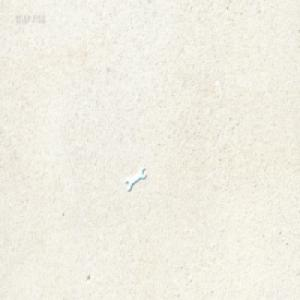Wrench: (125, 167, 147, 193)
